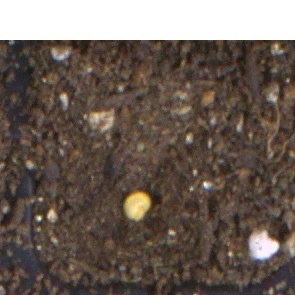chilli seed: (121, 190, 151, 220)
